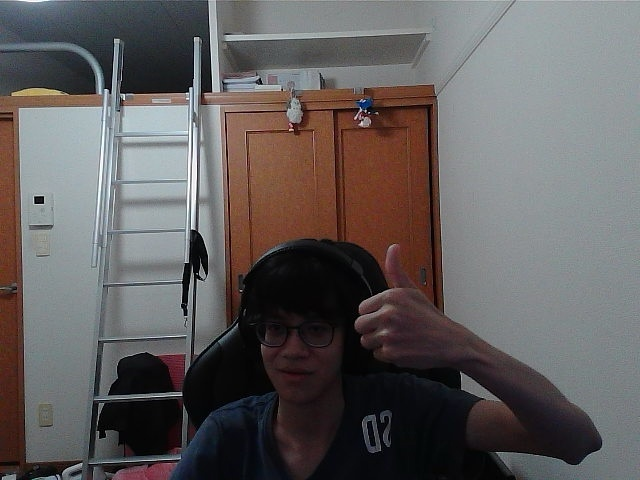thumb_up: (359, 251, 441, 354)
